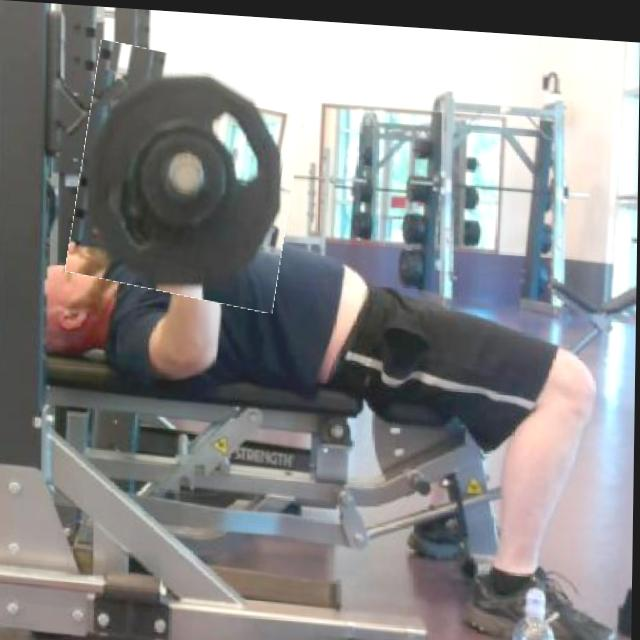barbell: (74, 45, 301, 305)
